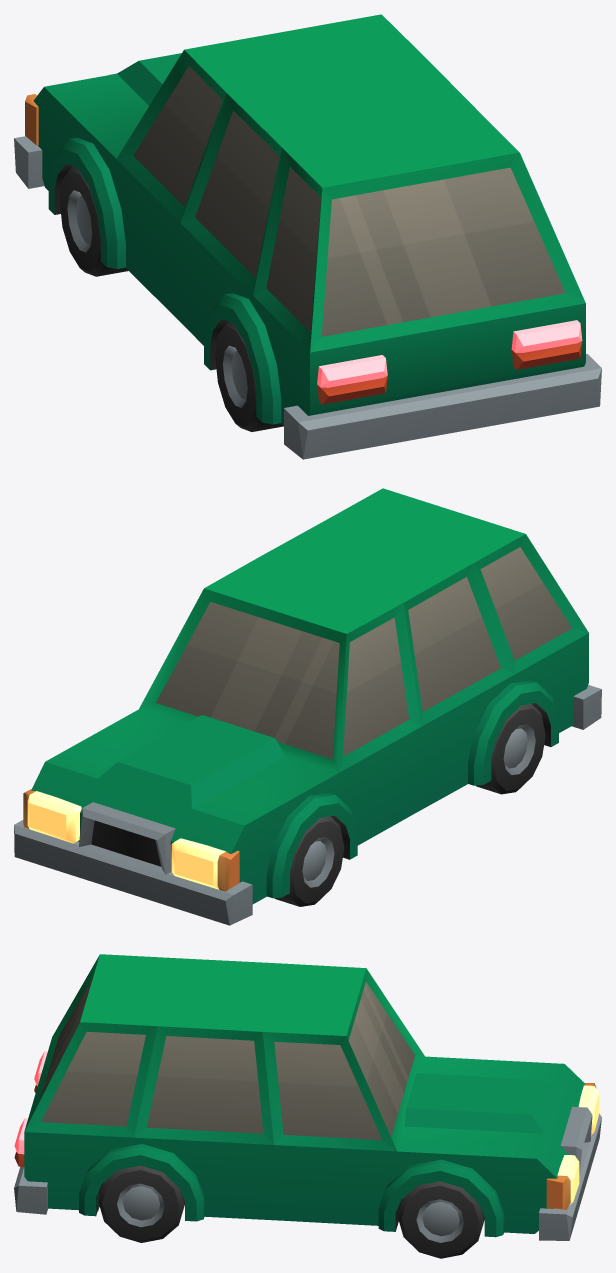
The model's file is car_02.glb.
3 views of the same model, one above another, from view 1: azimuth 30°, elevation 25°; view 2: azimuth 150°, elevation 25°; view 3: azimuth 270°, elevation 25° (orthographic). The views are drawn at different scales.
Visible parts, largest first — view 1: car_02, car_stationwagon_wheel_rear_left, car_stationwagon_wheel_front_left; view 2: car_02, car_stationwagon_wheel_rear_left, car_stationwagon_wheel_front_left; view 3: car_02, car_stationwagon_wheel_rear_right, car_stationwagon_wheel_front_right.
Part boxes in pixels (x1,y1,x2,y2): car_02: [14, 14, 601, 459]; car_stationwagon_wheel_rear_left: [215, 321, 283, 431]; car_stationwagon_wheel_front_left: [59, 166, 128, 276]; car_02: [14, 488, 601, 925]; car_stationwagon_wheel_rear_left: [476, 704, 545, 794]; car_stationwagon_wheel_front_left: [274, 816, 344, 906]; car_02: [14, 954, 601, 1240]; car_stationwagon_wheel_rear_right: [98, 1165, 184, 1242]; car_stationwagon_wheel_front_right: [398, 1181, 484, 1258].
Size of the model in its own units: 0.524 by 0.3688 by 0.9771.
3 materials, 1 textured.
